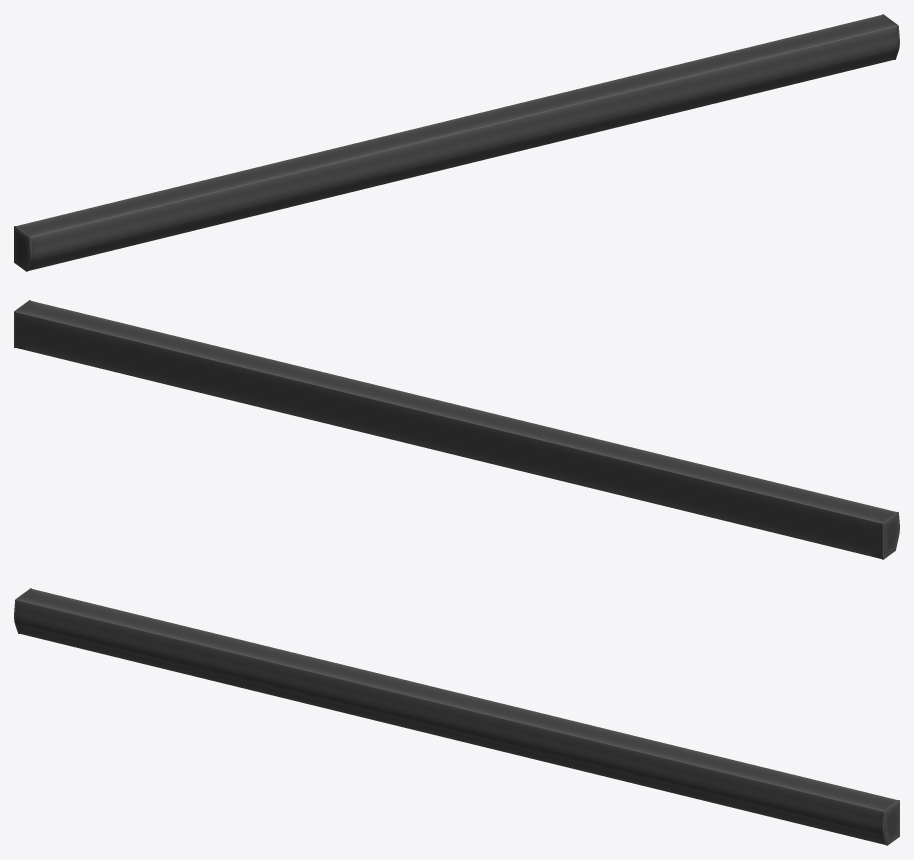
Rendered from ProjectorScreen.fbx.
3 views of the same model, one above another, from view 1: azimuth 30°, elevation 25°; view 2: azimuth 150°, elevation 25°; view 3: azimuth 330°, elevation 25° (orthographic).
Visible parts, largest first — view 1: ProjectorScreen; view 2: ProjectorScreen; view 3: ProjectorScreen.
Part boxes in pixels (x1,y1,x2,y2): ProjectorScreen: [14, 14, 899, 271]; ProjectorScreen: [14, 300, 899, 559]; ProjectorScreen: [14, 588, 899, 845].
Size of the model in its own units: 266 by 10.78 by 9.
1 material, 1 textured.
